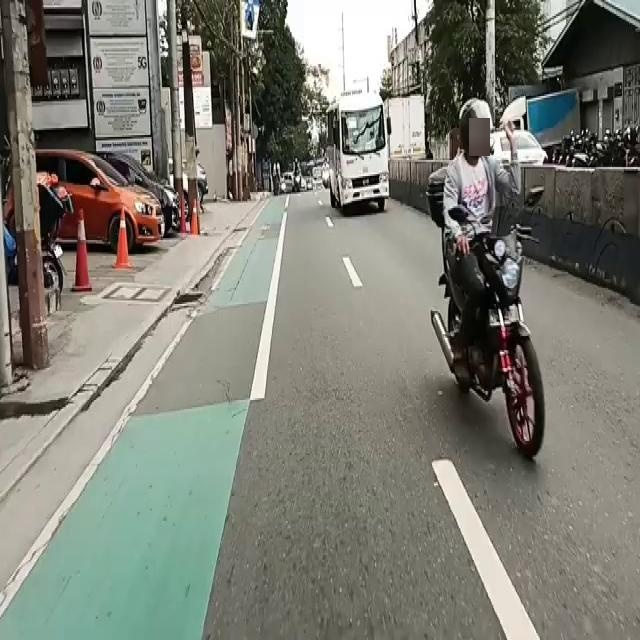bus: (318, 83, 392, 214)
car: (17, 140, 163, 248)
motorcycle: (418, 99, 546, 422)
